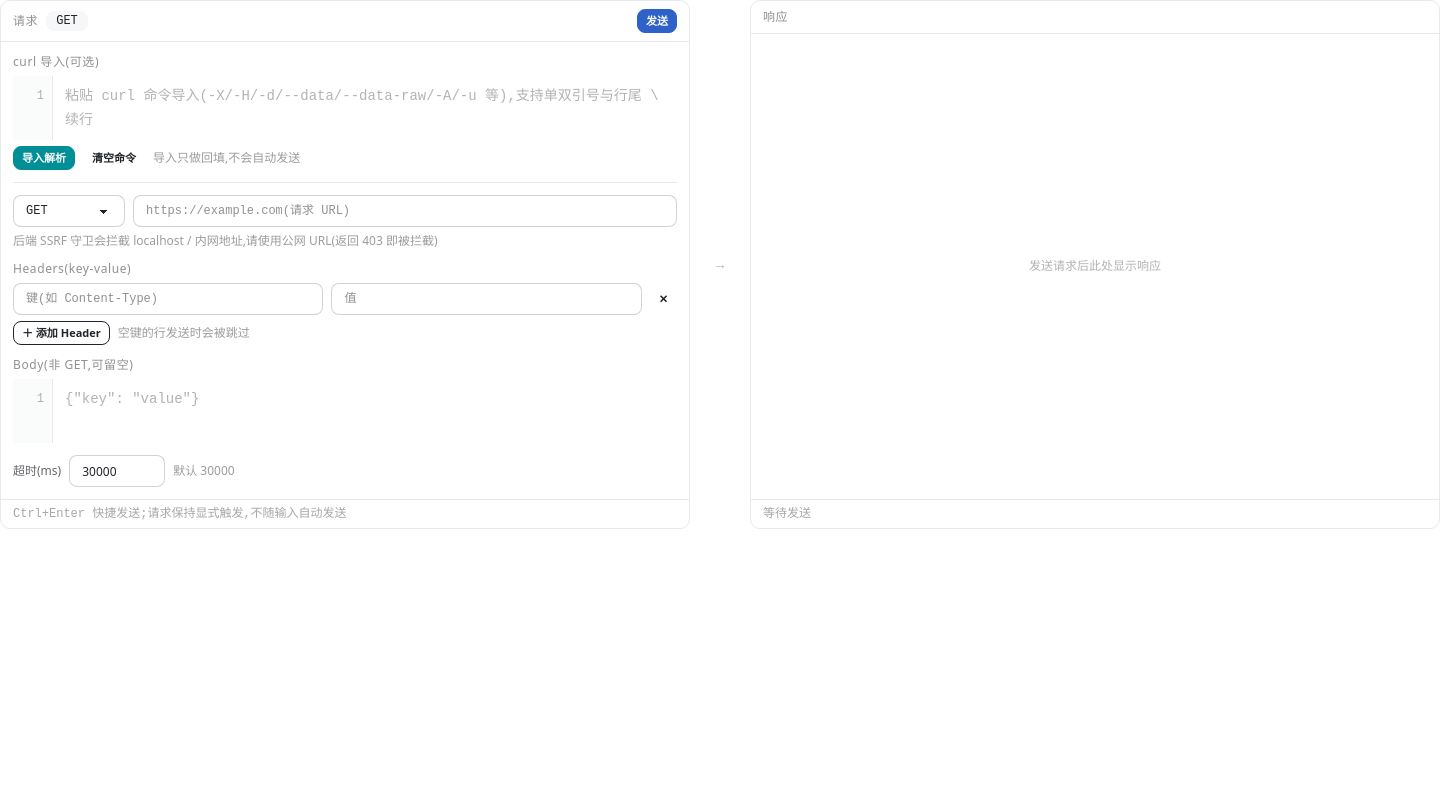
Scenario: HttpTester FE7:响应展示(美化与截断) › 截断提示文案与常量数字一致(防模板文案与常量漂移)
Step 1. Type "https://example.com/big" into the field with placeholder "https://example.com(请求 URL)" → (405, 211), box 133,195 -> 677,227
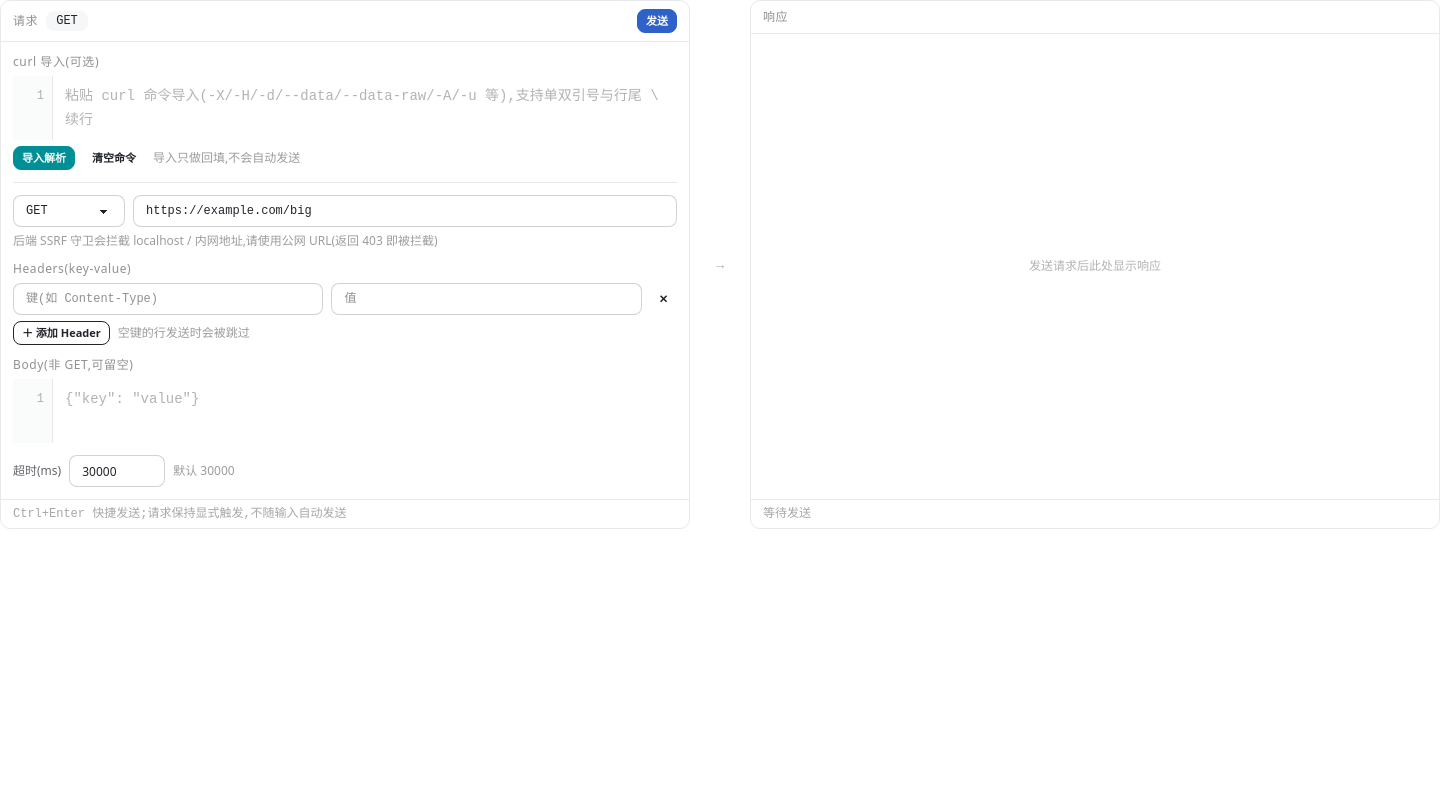
Step 2. Click the button "发送" → (657, 21), box 637,9 -> 677,33
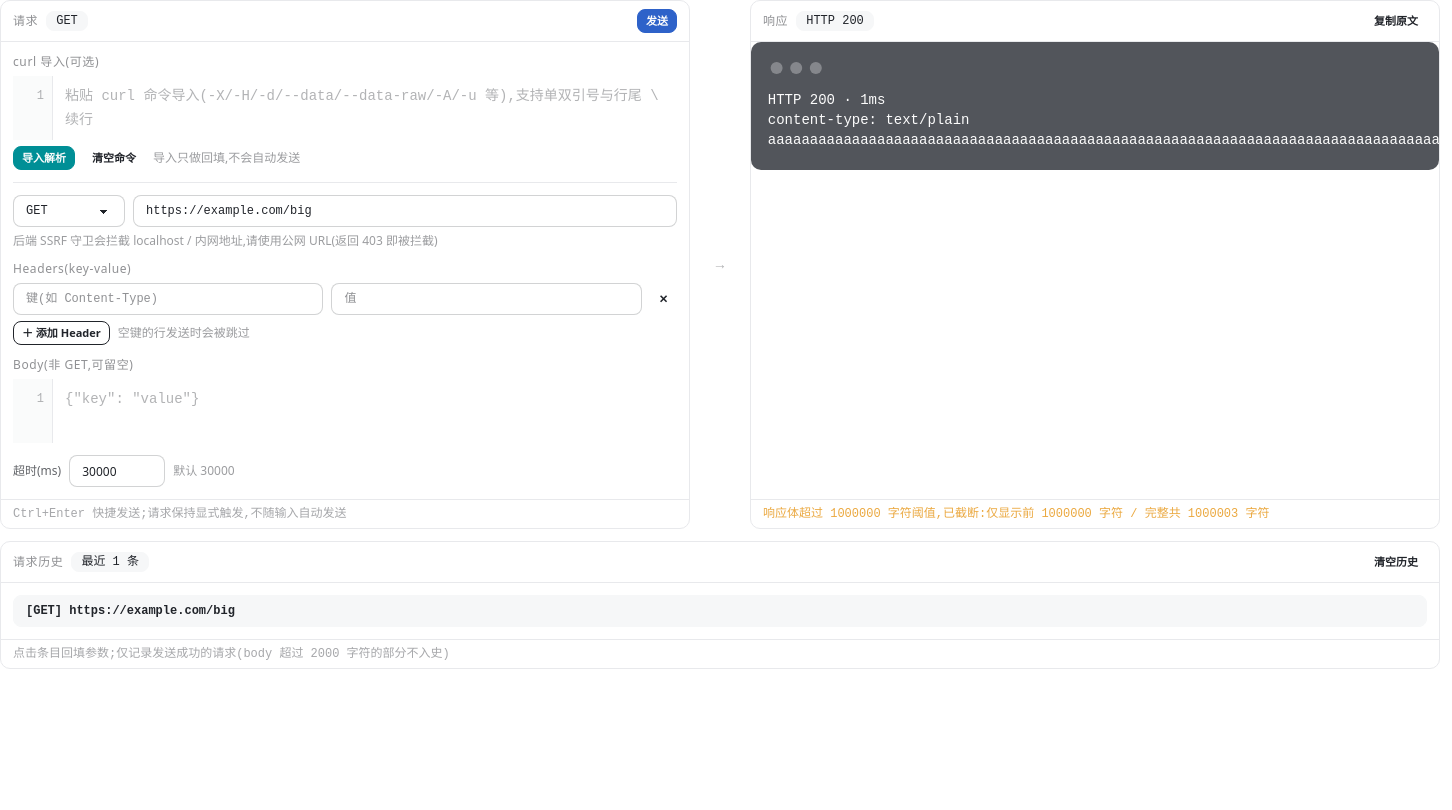
expect the text "截断" is shown: met, box 763,506 -> 1270,522
expect the text "1000000" is shown: met, box 763,507 -> 1270,521
